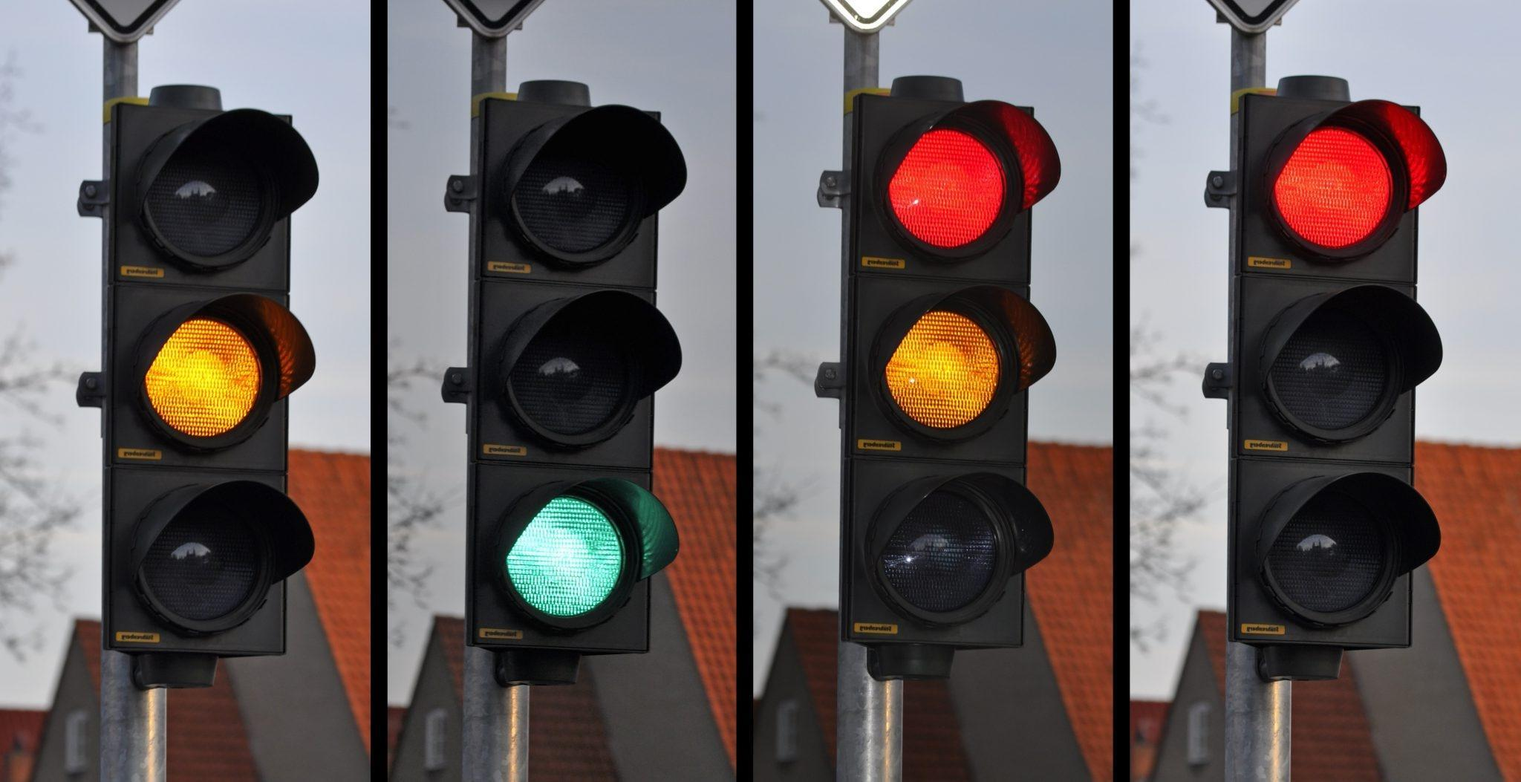green: (446, 76, 709, 674)
